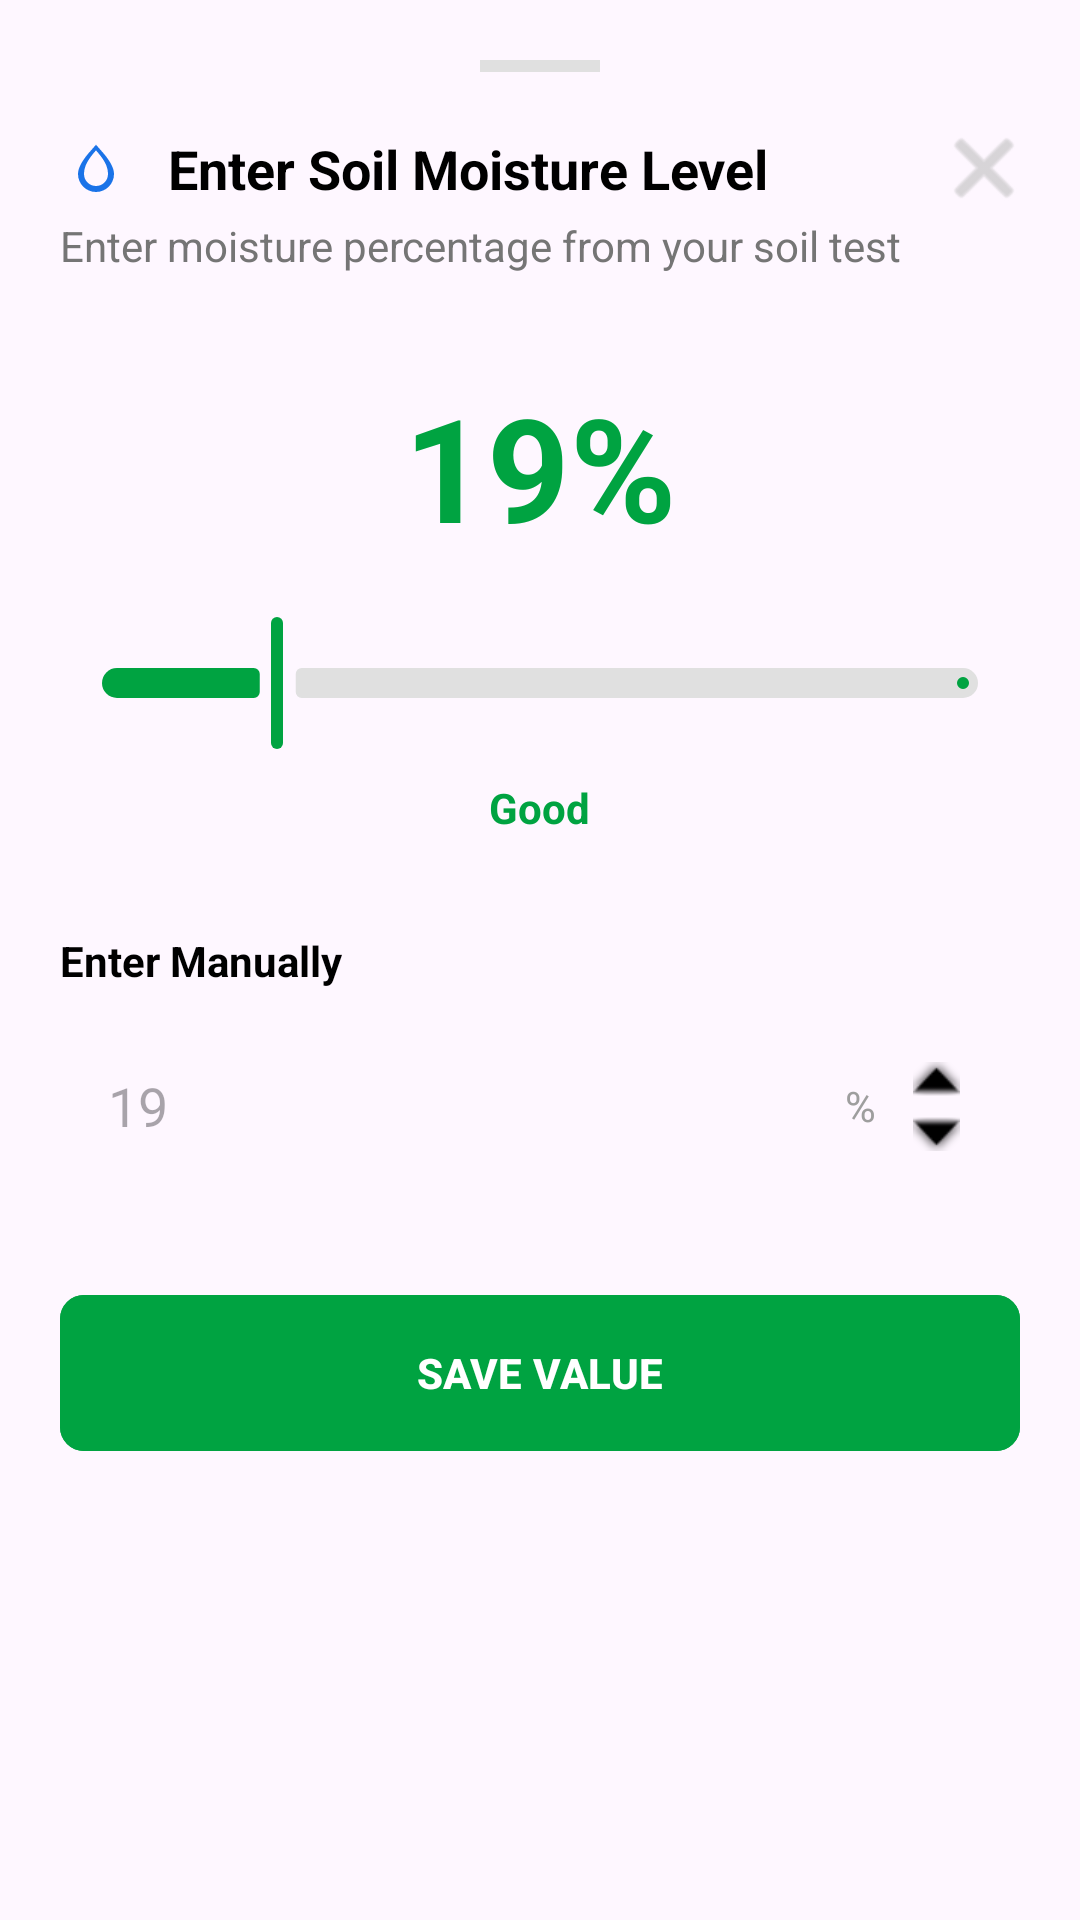

Point at icon controls on the screen. Image size 1080 x 1920, points as (x,y).
arrow down float: (936,1134)
arrow up float: (936,1079)
close clear cancel: (984,168)
humidity: (96,168)
